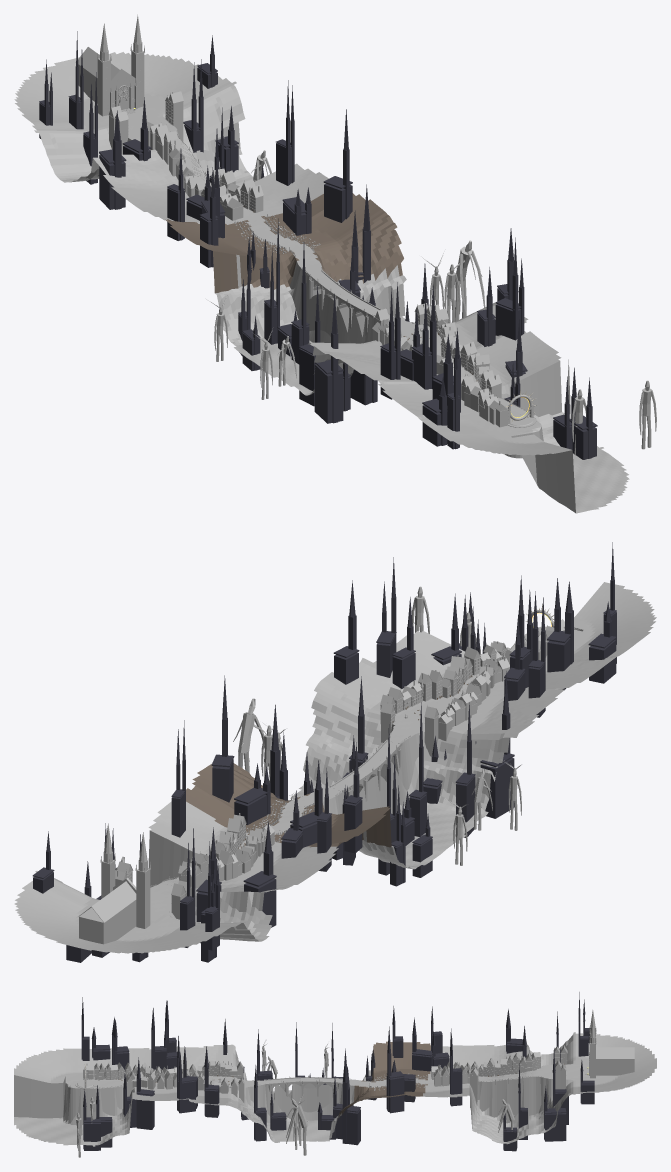
File: inferno_3.glb
The picture shows the model from 3 angles, top to bottom: view 1: azimuth 30°, elevation 25°; view 2: azimuth 150°, elevation 25°; view 3: azimuth 270°, elevation 25°; orthographic projection. The views are drawn at different scales.
Visible parts, largest first — view 1: SM_inf3_horizonte_silhueta, SM_inf3_catedral_pedra_catedral, SM_inf3_chao_-1_11_calcada, SM_inf3_chao_1_0_terra, SM_inf3_chao_-2_-1_terra, SM_inf3_chao_1_-7_calcada, SM_inf3_chao_-1_10_calcada, SM_inf3_chao_-2_0_rocha, SM_inf3_chao_-2_-7_calcada, SM_inf3_chao_1_1_rocha, SM_inf3_chao_1_8_calcada, SM_inf3_chao_1_-9_calcada (+21 smaller); view 2: SM_inf3_horizonte_silhueta, SM_inf3_catedral_pedra_catedral, SM_inf3_chao_1_4_calcada, SM_inf3_chao_-2_4_calcada, SM_inf3_chao_1_3_rocha, SM_inf3_chao_1_-4_rocha, SM_inf3_chao_-2_-6_calcada, SM_inf3_chao_-1_3_rocha, SM_inf3_catedral_telhado, SM_inf3_chao_-1_4_calcada, SM_inf3_chao_1_-8_calcada, SM_inf3_chao_-2_-1_terra (+14 smaller); view 3: SM_inf3_horizonte_silhueta, SM_inf3_chao_-1_11_calcada, SM_inf3_chao_0_-5_rocha, SM_inf3_chao_-1_10_calcada, SM_inf3_chao_0_-6_rocha, SM_inf3_catedral_pedra_catedral, SM_inf3_chao_0_2_rocha, SM_inf3_chao_0_10_rocha, SM_inf3_chao_0_1_rocha, SM_inf3_chao_0_9_rocha, SM_inf3_chao_0_3_rocha, SM_inf3_chao_0_8_rocha (+24 smaller).
Part boxes in pixels (x1,y1,x2,y2): SM_inf3_horizonte_silhueta: [39, 31, 597, 459]; SM_inf3_catedral_pedra_catedral: [78, 42, 144, 116]; SM_inf3_chao_-1_11_calcada: [511, 443, 573, 511]; SM_inf3_chao_1_0_terra: [335, 219, 398, 283]; SM_inf3_chao_-2_-1_terra: [192, 238, 254, 293]; SM_inf3_chao_1_-7_calcada: [183, 90, 228, 160]; SM_inf3_chao_-1_10_calcada: [488, 427, 550, 496]; SM_inf3_chao_-2_0_rocha: [218, 295, 264, 345]; SM_inf3_chao_-2_-7_calcada: [52, 129, 103, 177]; SM_inf3_chao_1_1_rocha: [359, 269, 406, 320]; SM_inf3_chao_1_8_calcada: [521, 359, 561, 415]; SM_inf3_chao_1_-9_calcada: [126, 54, 189, 89]; SM_inf3_horizonte_silhueta: [32, 542, 616, 962]; SM_inf3_catedral_pedra_catedral: [79, 852, 150, 944]; SM_inf3_chao_1_4_calcada: [320, 689, 380, 751]; SM_inf3_chao_-2_4_calcada: [451, 727, 512, 781]; SM_inf3_chao_1_3_rocha: [299, 739, 351, 791]; SM_inf3_chao_1_-4_rocha: [148, 830, 184, 887]; SM_inf3_chao_-2_-6_calcada: [220, 890, 269, 933]; SM_inf3_chao_-1_3_rocha: [391, 737, 446, 816]; SM_inf3_catedral_telhado: [78, 823, 147, 922]; SM_inf3_chao_-1_4_calcada: [413, 724, 467, 770]; SM_inf3_chao_1_-8_calcada: [30, 884, 95, 919]; SM_inf3_chao_-2_-1_terra: [331, 806, 391, 847]; SM_inf3_horizonte_silhueta: [81, 992, 594, 1151]; SM_inf3_chao_-1_11_calcada: [16, 1063, 45, 1118]; SM_inf3_chao_0_-5_rocha: [489, 1078, 518, 1129]; SM_inf3_chao_-1_10_calcada: [46, 1068, 75, 1118]; SM_inf3_chao_0_-6_rocha: [520, 1076, 548, 1122]; SM_inf3_catedral_pedra_catedral: [585, 1027, 634, 1078]; SM_inf3_chao_0_2_rocha: [282, 1083, 311, 1130]; SM_inf3_chao_0_10_rocha: [46, 1083, 75, 1131]; SM_inf3_chao_0_1_rocha: [312, 1082, 342, 1130]; SM_inf3_chao_0_9_rocha: [75, 1086, 104, 1130]; SM_inf3_chao_0_3_rocha: [253, 1084, 282, 1130]; SM_inf3_chao_0_8_rocha: [105, 1085, 131, 1124].
Size of what is drawn, in the model's own units: 307 by 220 by 1044.
